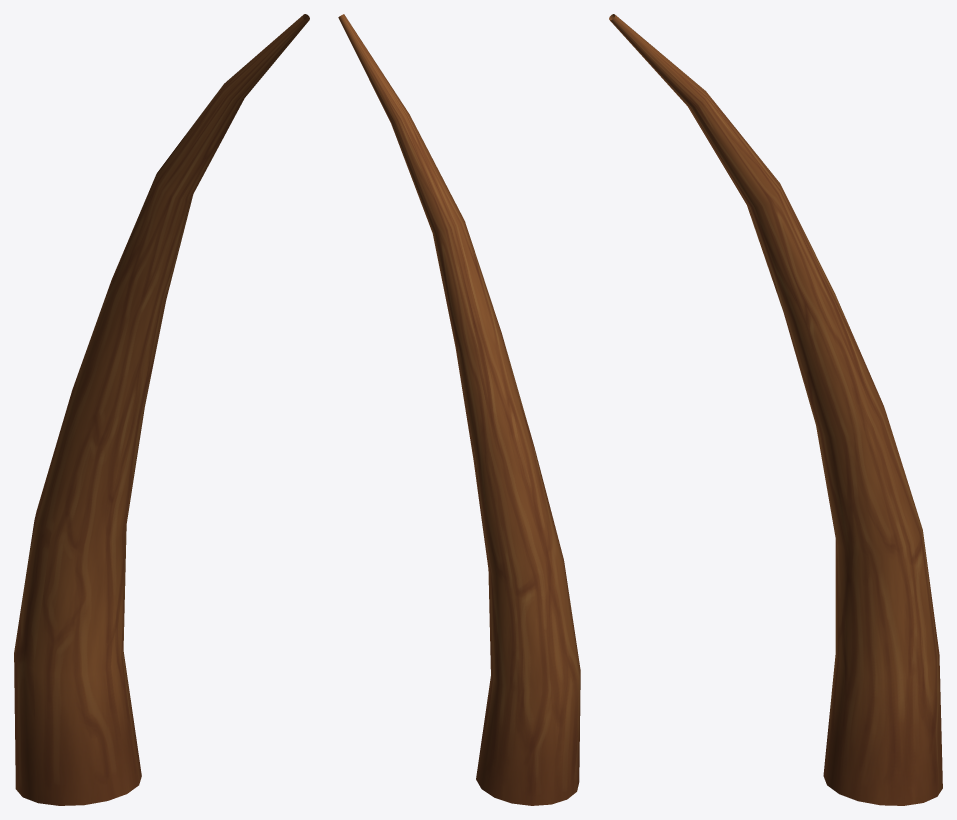
Rendered from Pine - Wood #1.fbx.
The picture shows the model from 3 angles, left to right: view 1: azimuth 30°, elevation 25°; view 2: azimuth 210°, elevation 25°; view 3: azimuth 270°, elevation 25°; orthographic projection. The views are drawn at different scales.
Visible parts, largest first — view 1: Pine - Wood #1; view 2: Pine - Wood #1; view 3: Pine - Wood #1.
Part boxes in pixels (x1=…): Pine - Wood #1: x1=14, y1=14, x2=309, y2=805; Pine - Wood #1: x1=338, y1=14, x2=580, y2=805; Pine - Wood #1: x1=609, y1=14, x2=942, y2=805.
Bounding box in the file's own units: 83.16 × 476 × 178.
Materials: 1 (1 with a texture image).
